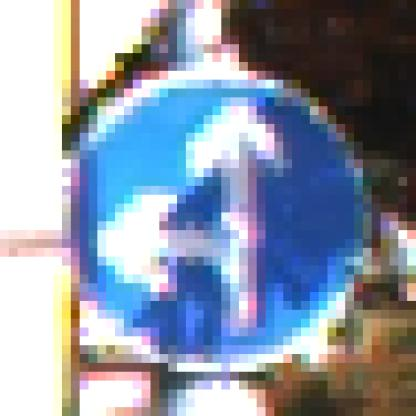Straight or Left: (45, 54, 373, 373)
